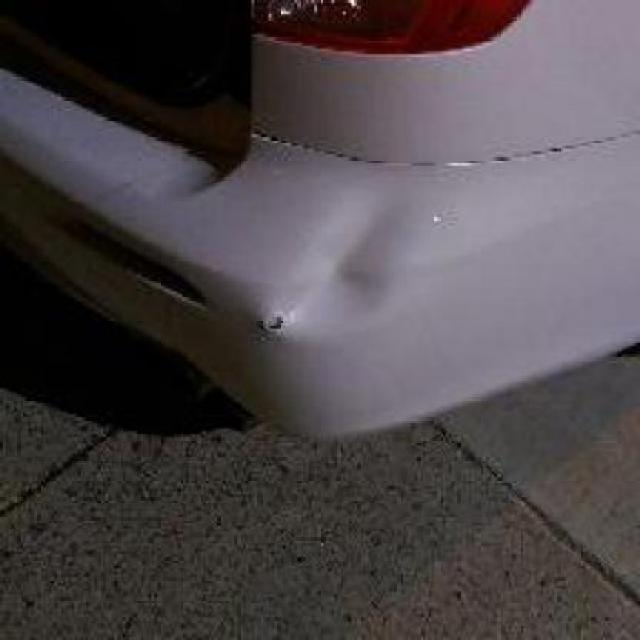dent-or-scratch: (268, 196, 434, 342)
